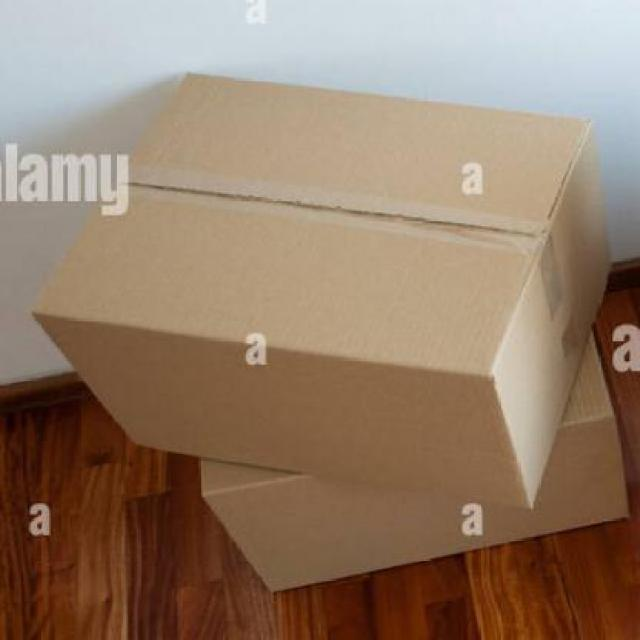box: (26, 71, 618, 512), (196, 323, 628, 590)
